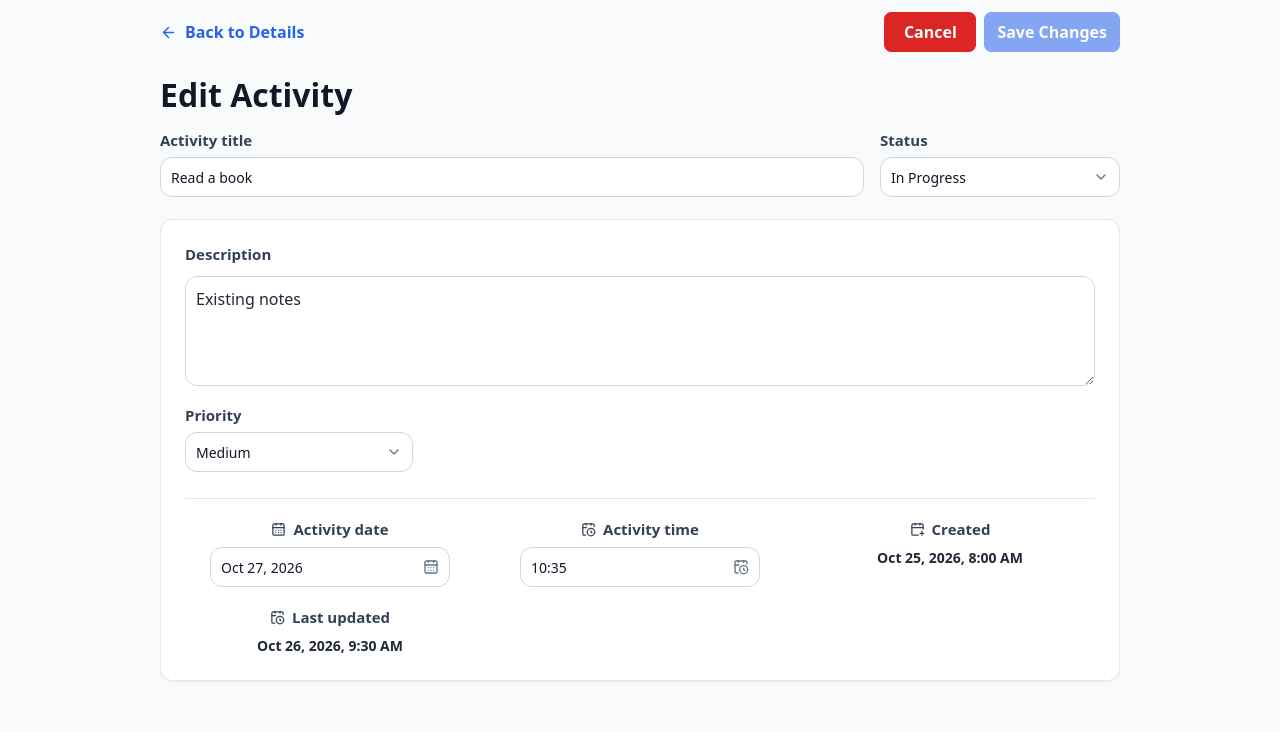
Scenario: ActivityEditor › shows an edit API error and resets submitting state
Replace the text in the field labelled "Activity title" with "Fail this update" at (512, 177), box x1=160 y1=157 x2=864 y2=197
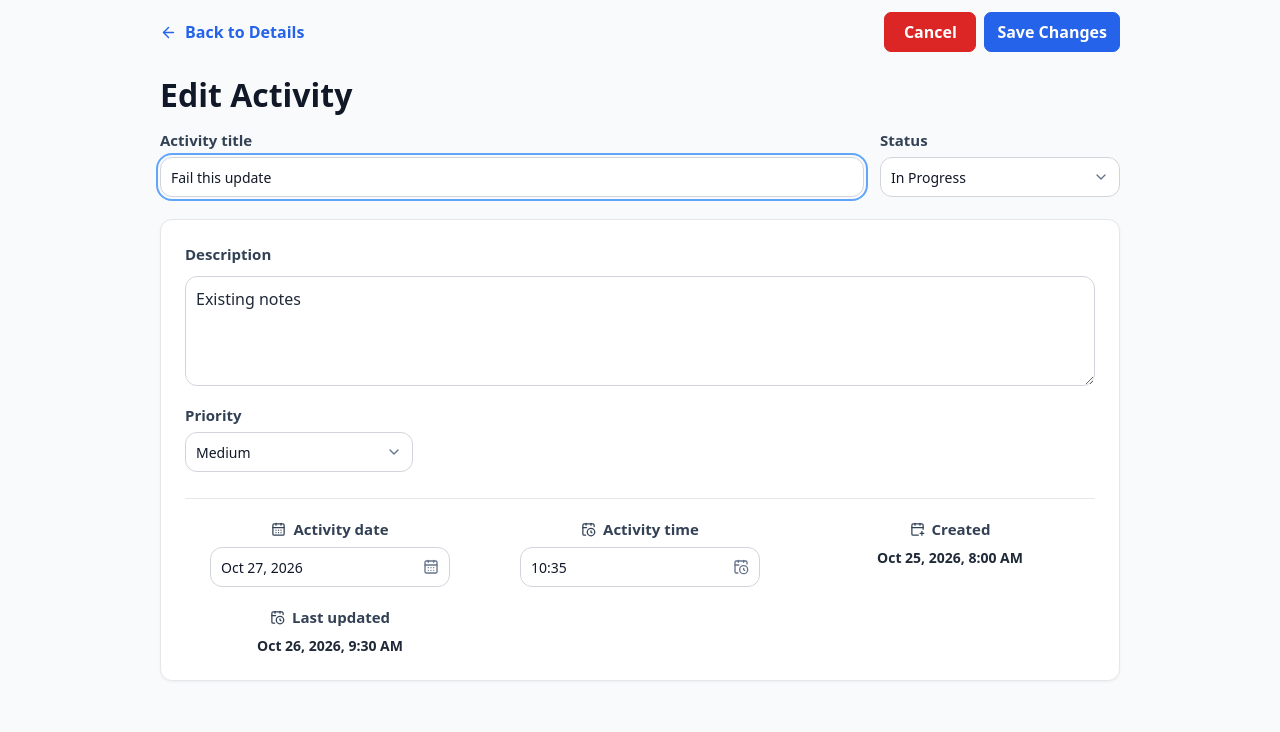
Click the button "Save Changes" at (1052, 32), box x1=984 y1=12 x2=1120 y2=52
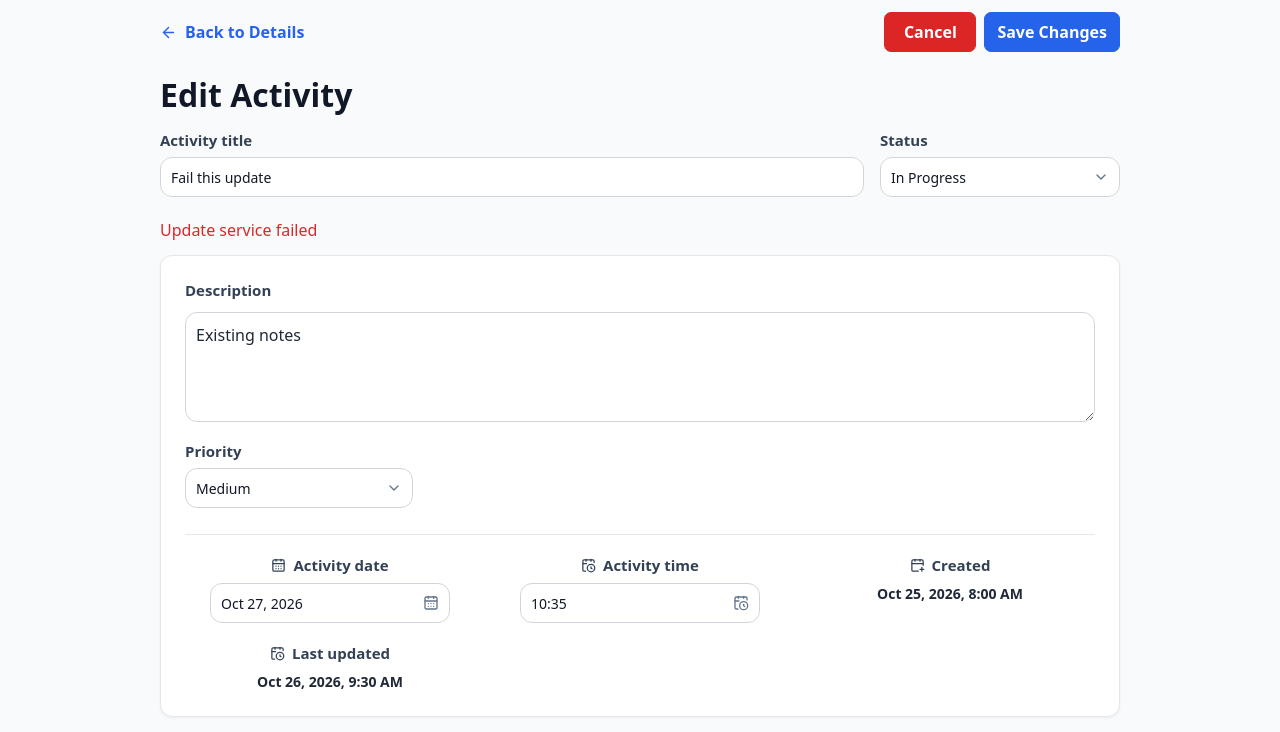
Expected: the message reads "Update service failed", x1=160 y1=219 x2=317 y2=241
